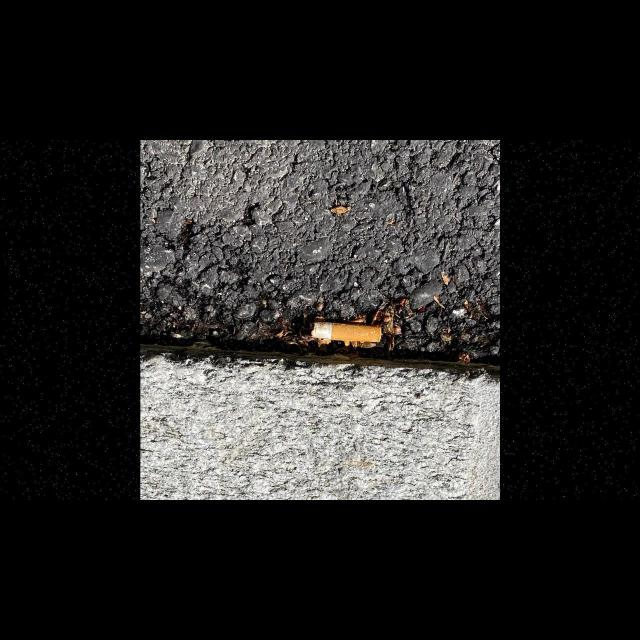cigarette: (307, 321, 383, 343)
